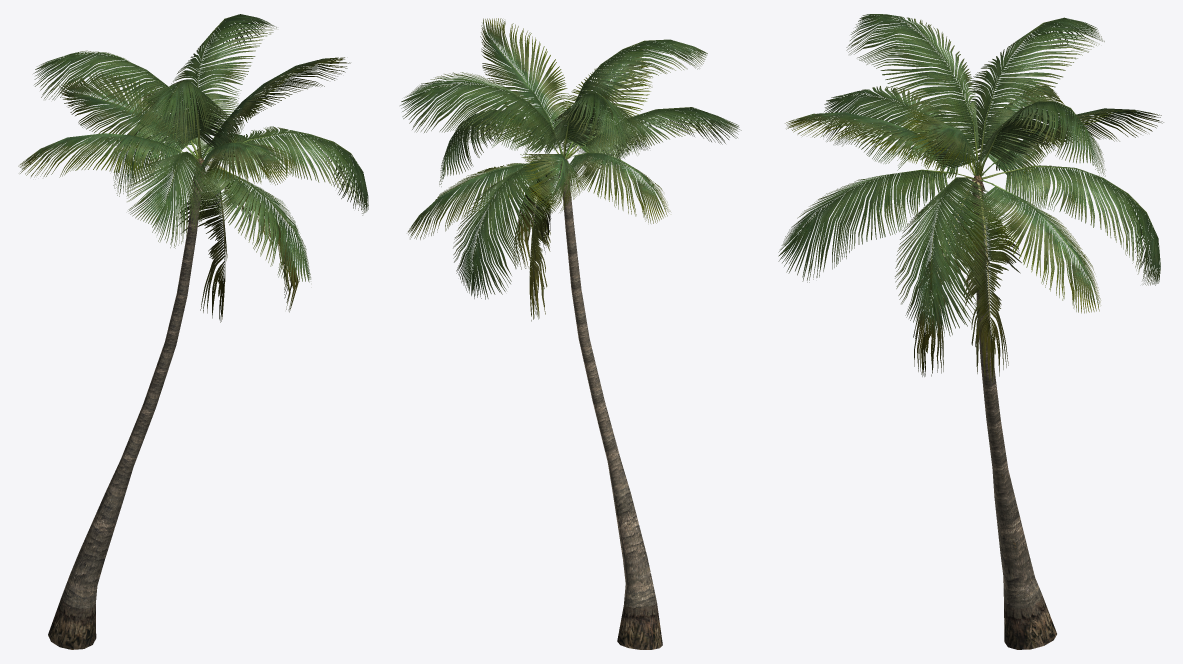
File: MK4_CocoPalm2.DAE
The picture shows the model from 3 angles, left to right: view 1: azimuth 30°, elevation 25°; view 2: azimuth 150°, elevation 25°; view 3: azimuth 270°, elevation 25°; orthographic projection. The views are drawn at different scales.
Parts seen in each view (by area): view 1: MK4_CocoPalm2; view 2: MK4_CocoPalm2; view 3: MK4_CocoPalm2.
Boxes of the visible parts, x1,y1,x2,y2 form: MK4_CocoPalm2: [18, 14, 368, 649]; MK4_CocoPalm2: [400, 18, 741, 649]; MK4_CocoPalm2: [778, 14, 1163, 649].
Size of what is drawn, in the model's own units: 15.93 by 16.59 by 30.05.
